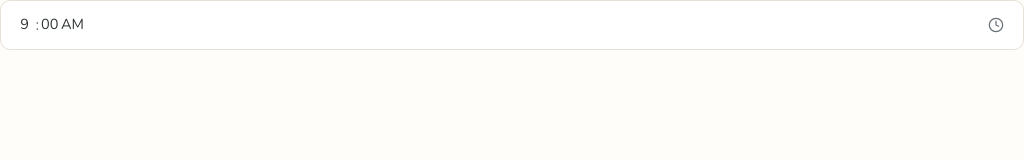
TimePicker — segmented field › arrow keys step the FOCUSED hour/minute segment and update its display
Click the field named "Start hour" at [25, 25], box [16,14,33,36]
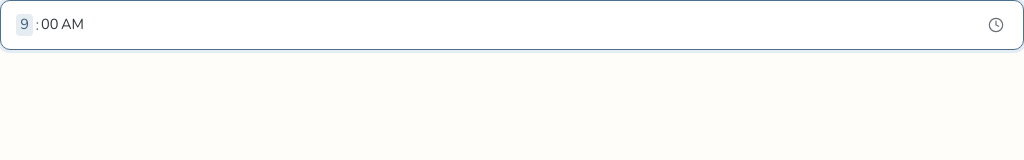
Press Arrowup
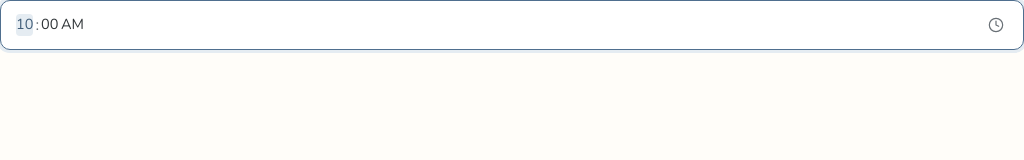
expect the field named "Start hour" holds "10": met, box [16,14,33,36]
Press Arrowdown Arrowdown
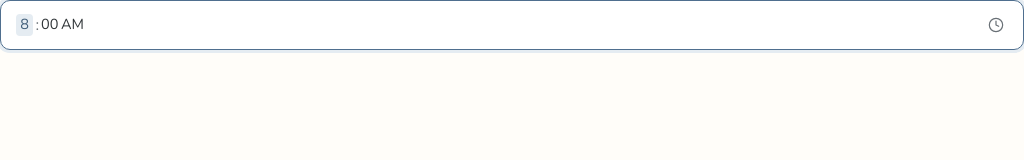
expect the field named "Start hour" holds "8": met, box [16,14,33,36]
Click the field named "Start minutes" at [50, 25], box [41,14,58,36]
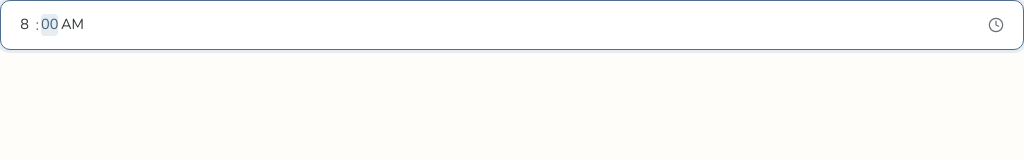
Press Arrowup
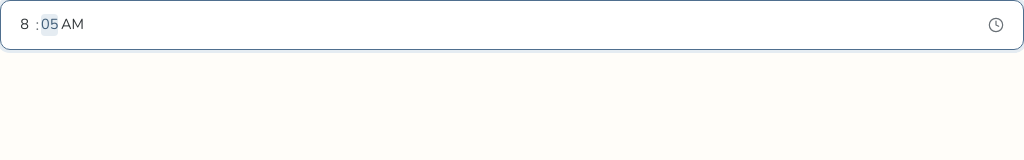
expect the field named "Start minutes" holds "05": met, box [41,14,58,36]
